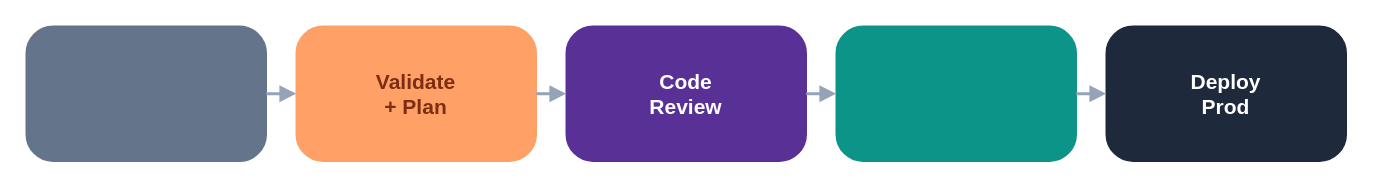
This 1373x188 diagram has some shape labels left out. The shapes that lost their labels are listed below. From the top down, each one's centre as x and y in pixels, then its label:
At pixel 145 93: "PR Creado".
At pixel 955 93: "Merge a main".
